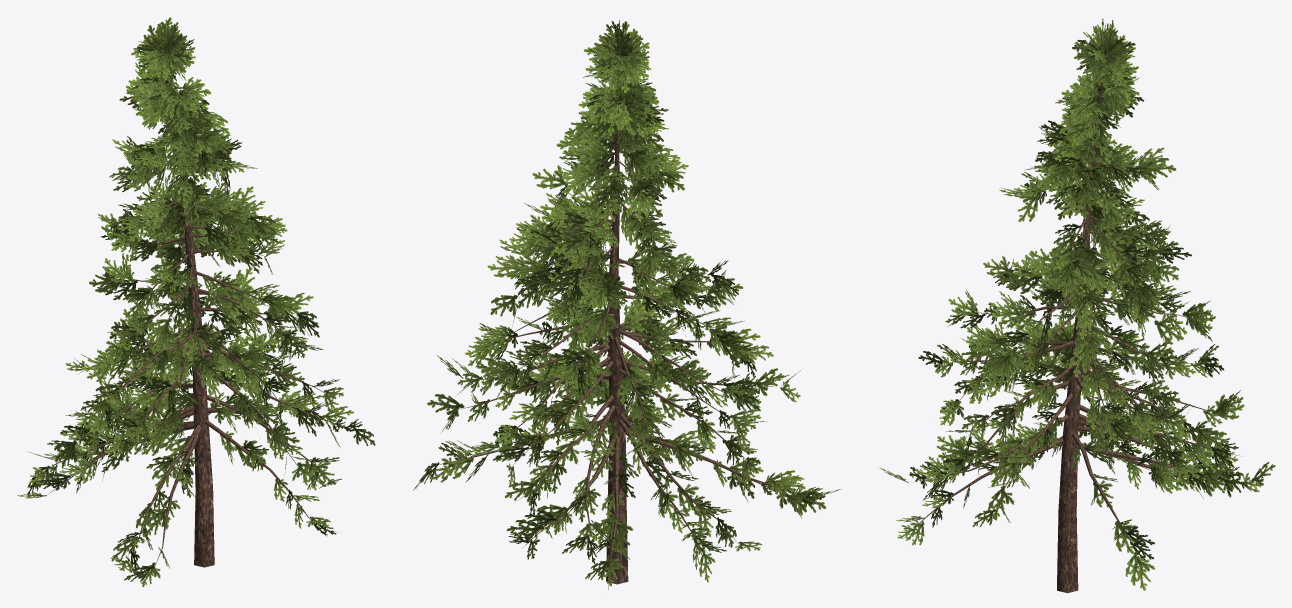
File: pine_coarse.glb
3 views of the same model, side by side, from view 1: azimuth 30°, elevation 25°; view 2: azimuth 150°, elevation 25°; view 3: azimuth 270°, elevation 25° (orthographic). The views are drawn at different scales.
Visible parts, largest first — view 1: Tree; view 2: Tree; view 3: Tree.
Boxes of the visible parts, x1,y1,x2,y2 form: Tree: [17, 17, 375, 587]; Tree: [413, 20, 841, 589]; Tree: [879, 18, 1275, 593].
Size of the model in its own units: 33.01 by 52.95 by 34.37.
Materials: 2 (2 with a texture image).
